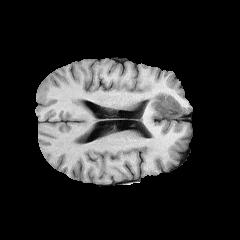glioma: (144, 92, 180, 118)
